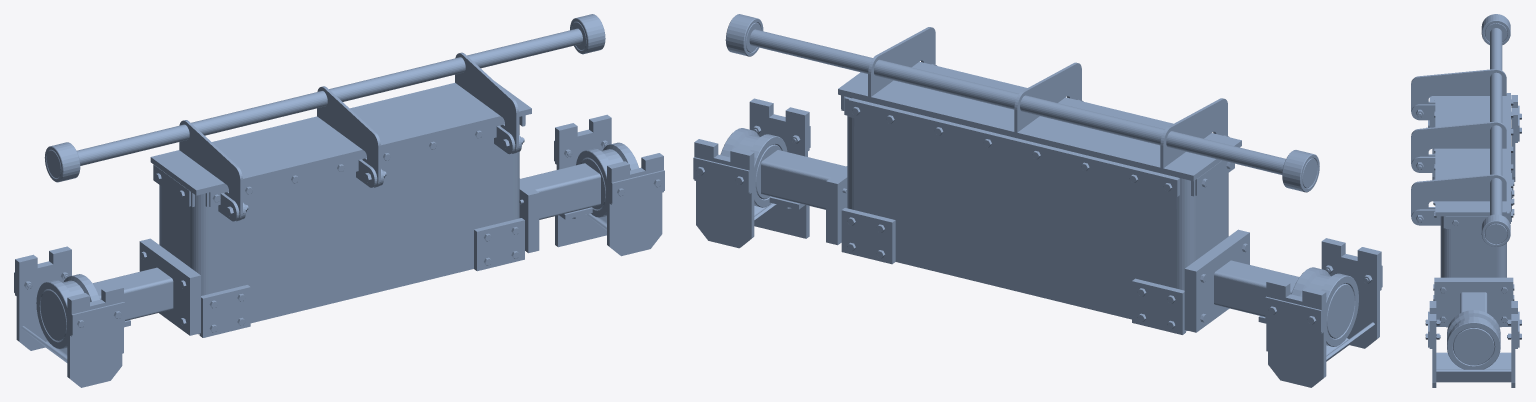
Rendered from sinter_bucket.glb.
3 renders of one model, left to right at view 1: azimuth 30°, elevation 25°; view 2: azimuth 150°, elevation 25°; view 3: azimuth 270°, elevation 25°, orthographic. The views are drawn at different scales.
Parts seen in each view (by area): view 1: part_37, part_139, part_144, part_47, part_106, part_122, part_86, part_123, part_95, part_96, part_140, part_141 (+19 smaller); view 2: part_0, part_139, part_144, part_4, part_105, part_123, part_86, part_122, part_95, part_96, part_1, part_2 (+19 smaller); view 3: part_139, part_87, part_144, part_141, part_140, part_142, part_37, part_104, part_90, part_0, part_89, part_86 (+18 smaller).
Part boxes in pixels (x1,y1,x2,y2): part_37: [175, 117, 519, 334]; part_139: [150, 81, 531, 193]; part_144: [77, 28, 582, 165]; part_47: [209, 120, 504, 206]; part_106: [607, 153, 662, 256]; part_122: [67, 284, 122, 387]; part_86: [521, 163, 600, 219]; part_123: [16, 248, 71, 350]; part_95: [93, 267, 173, 320]; part_96: [139, 240, 195, 335]; part_140: [317, 86, 380, 187]; part_141: [455, 52, 518, 153]; part_0: [847, 97, 1211, 331]; part_139: [838, 61, 1241, 178]; part_144: [749, 29, 1285, 174]; part_4: [848, 99, 1178, 196]; part_105: [696, 139, 754, 248]; part_123: [1268, 278, 1326, 387]; part_86: [761, 150, 845, 209]; part_122: [1321, 239, 1379, 348]; part_95: [1214, 260, 1299, 316]; part_96: [1190, 231, 1249, 332]; part_1: [841, 208, 895, 264]; part_2: [1132, 278, 1185, 334]; part_139: [1435, 96, 1506, 214]; part_87: [1434, 279, 1513, 326]; part_144: [1490, 28, 1502, 215]; part_141: [1411, 174, 1506, 218]; part_140: [1411, 121, 1506, 165]; part_142: [1411, 69, 1506, 113]; part_37: [1440, 216, 1473, 327]; part_104: [1436, 352, 1511, 382]; part_90: [1447, 310, 1500, 369]; part_0: [1473, 93, 1506, 327]; part_89: [1453, 328, 1494, 365]; part_86: [1460, 292, 1487, 313].
Bounding box in the file's own units: 2.4 × 0.8022 × 0.4969.
